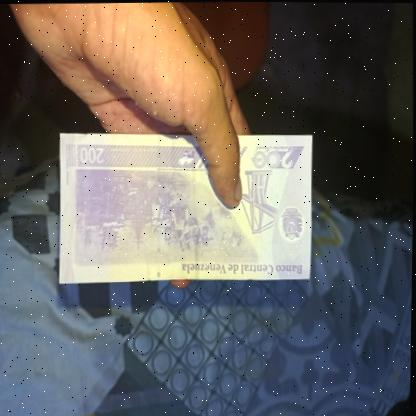two_hundred-back-vef: (56, 128, 315, 285)
